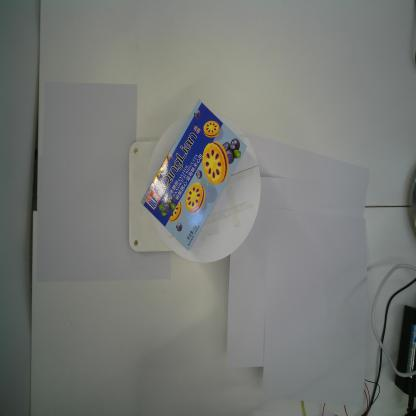Dessert: (140, 98, 248, 252)
